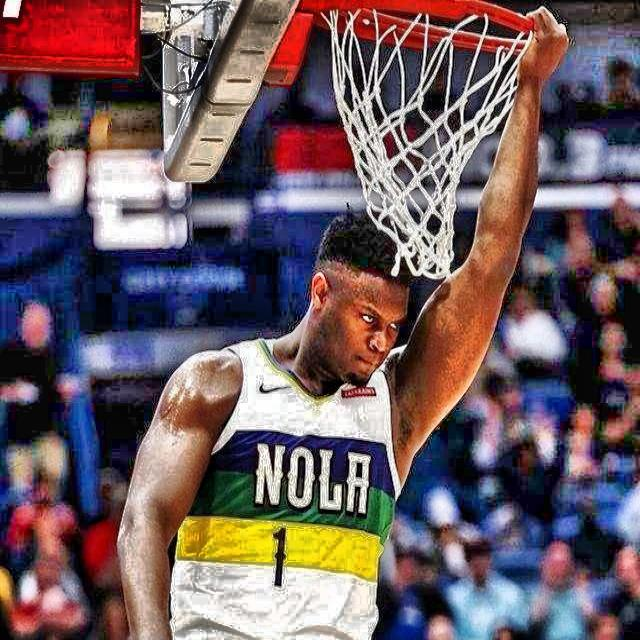board: (327, 0, 534, 278)
